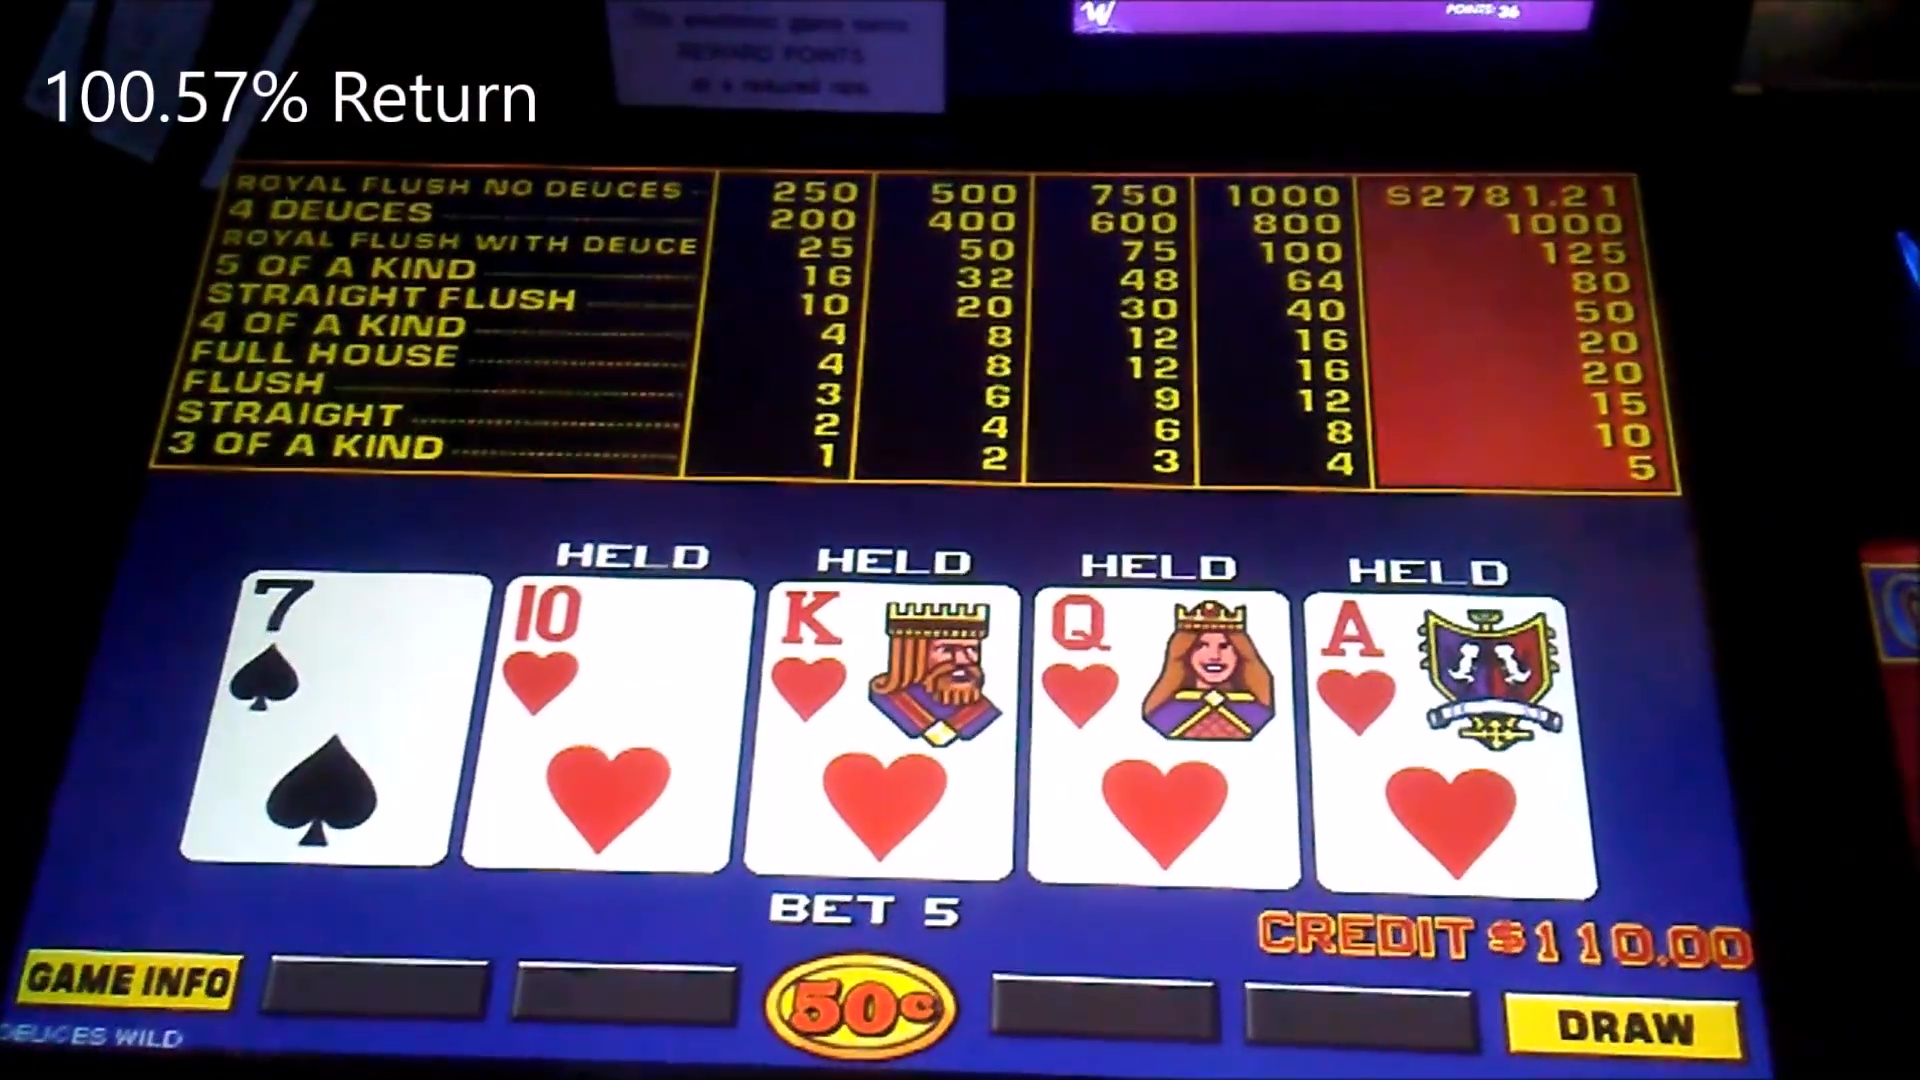HA: (1315, 589, 1564, 742)
HK: (765, 585, 1015, 733)
HQ: (1030, 592, 1280, 735)
HT: (496, 579, 752, 728)
S7: (223, 568, 475, 717)
